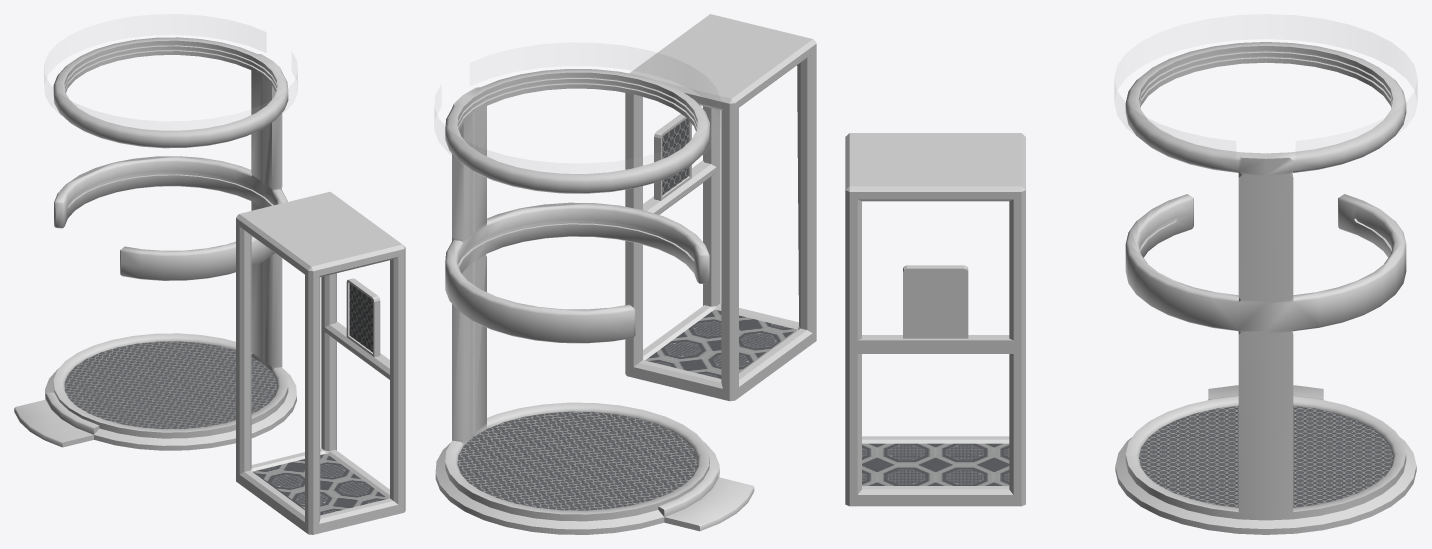
Rendered from Dakimakurator MKII.fbx.
3 renders of one model, left to right at view 1: azimuth 30°, elevation 25°; view 2: azimuth 150°, elevation 25°; view 3: azimuth 270°, elevation 25°, orthographic. The views are drawn at different scales.
Visible parts, largest first — view 1: Dakimakurator MKII; view 2: Dakimakurator MKII; view 3: Dakimakurator MKII.
Boxes of the visible parts, x1,y1,x2,y2 form: Dakimakurator MKII: (14, 37, 405, 534); Dakimakurator MKII: (434, 14, 816, 534); Dakimakurator MKII: (845, 42, 1417, 534).
Size of the model in its own units: 229 by 288 by 380.
